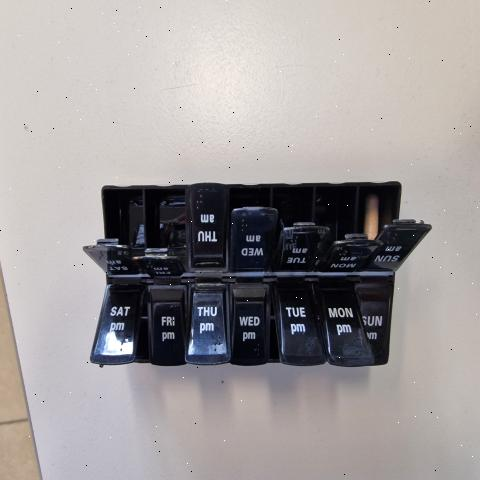Open: (357, 180, 431, 266), (133, 187, 185, 271), (315, 183, 359, 271), (84, 184, 140, 252), (270, 186, 312, 259), (223, 185, 270, 239), (271, 296, 280, 360)
